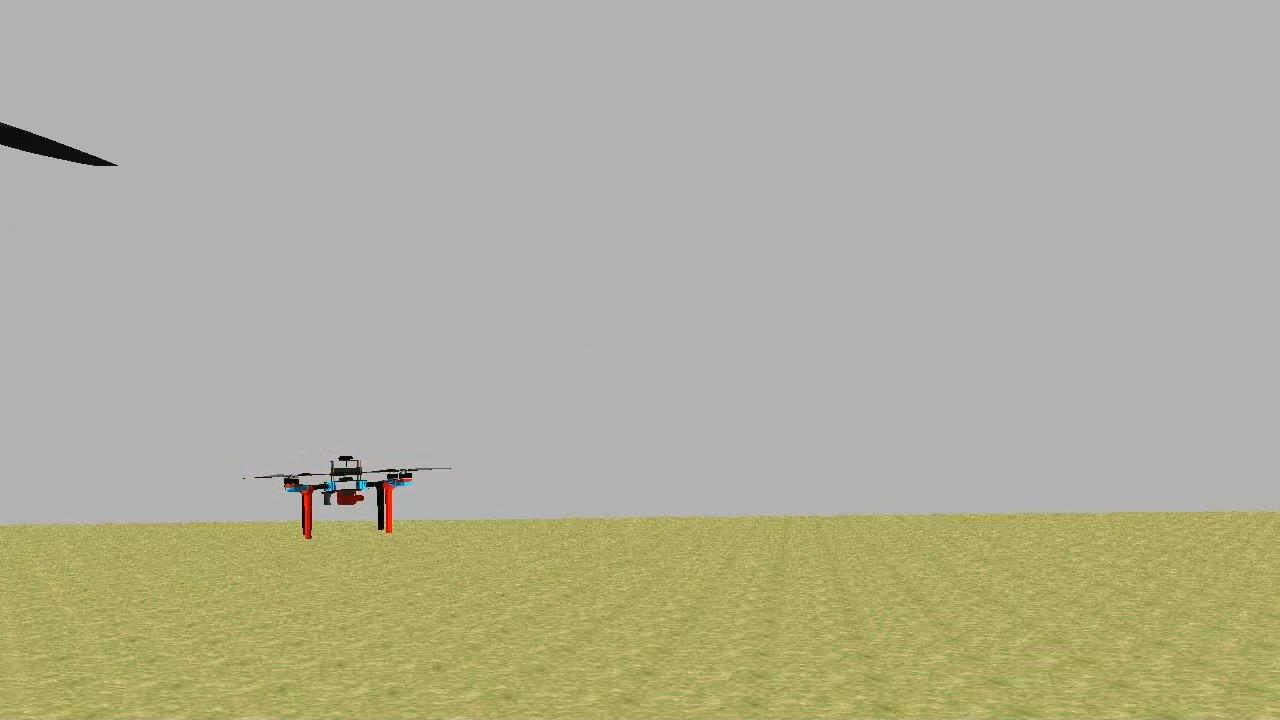UAV: (276, 454, 420, 544)
